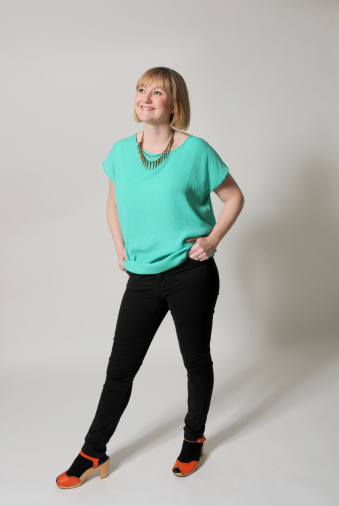em pe: (57, 55, 245, 474)
